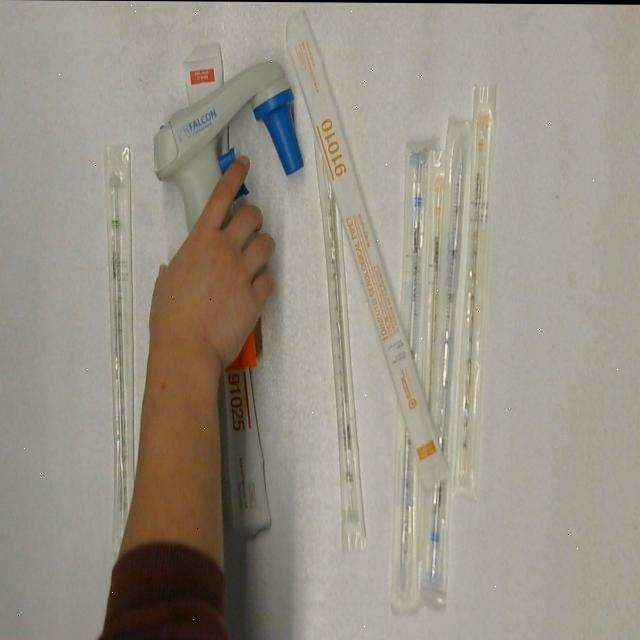Pipette Controller: (151, 59, 299, 367)
Serelogical Pipet 1 mL - Sealed: (448, 90, 506, 497), (417, 147, 454, 399)
Serelogical Pipet 10 mL - Sealed: (296, 2, 452, 480)
Serelogical Pipet 2 mL - Sealed: (307, 125, 369, 554), (104, 140, 140, 564)
Serelogical Pipet 25 mL - Sealed: (182, 36, 279, 535)
Serelogical Pipet 5 mL - Sealed: (422, 118, 474, 610), (387, 128, 439, 616)
